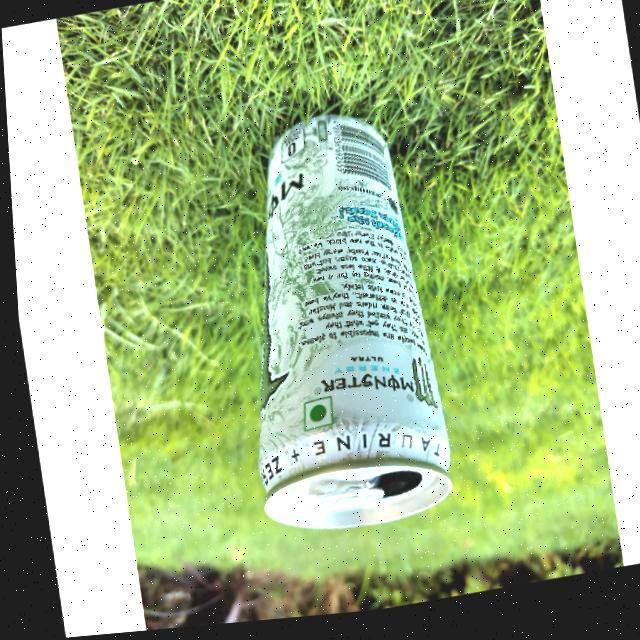White Monster: (205, 108, 472, 551)
